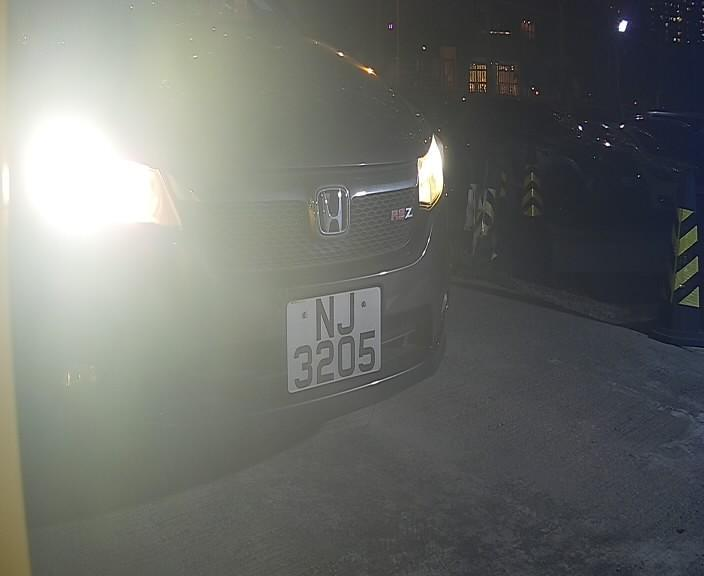License Plate: (280, 268, 390, 399)
